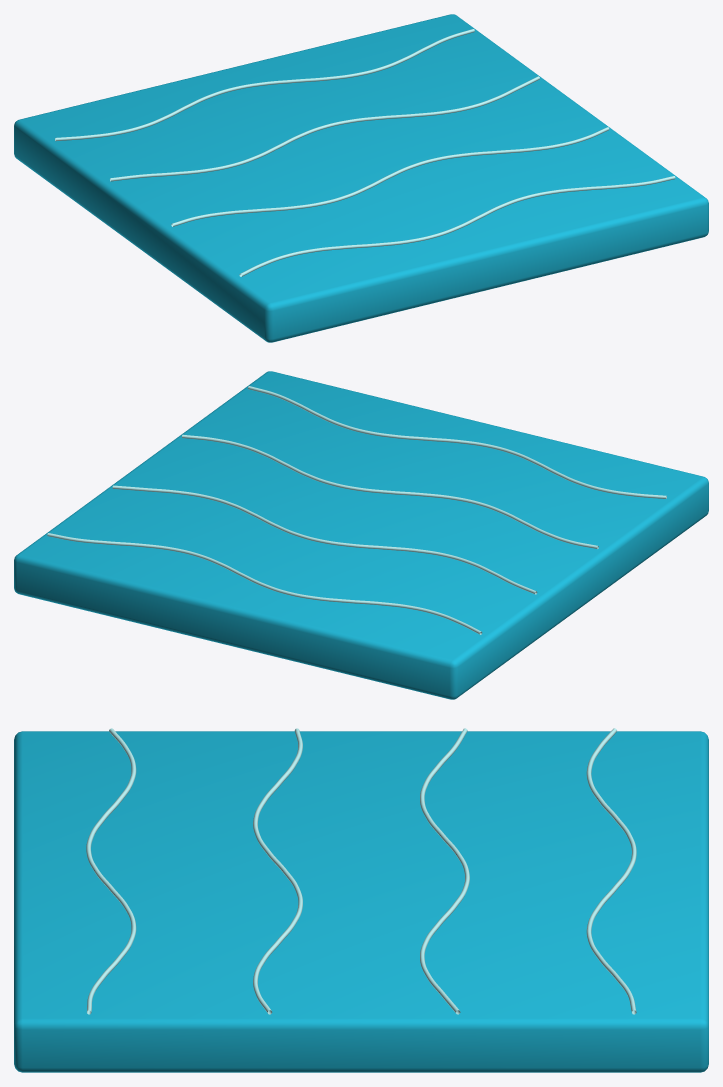
The model's file is water_tile.glb.
3 renders of one model, top to bottom at view 1: azimuth 30°, elevation 25°; view 2: azimuth 150°, elevation 25°; view 3: azimuth 270°, elevation 25°, orthographic. The views are drawn at different scales.
Visible parts, largest first — view 1: water_tile; view 2: water_tile; view 3: water_tile.
Boxes of the visible parts, x1,y1,x2,y2 form: water_tile: (14,14,708,342); water_tile: (14,371,708,699); water_tile: (14,728,708,1072).
Size of the model in its own units: 2 by 0.189 by 2.
